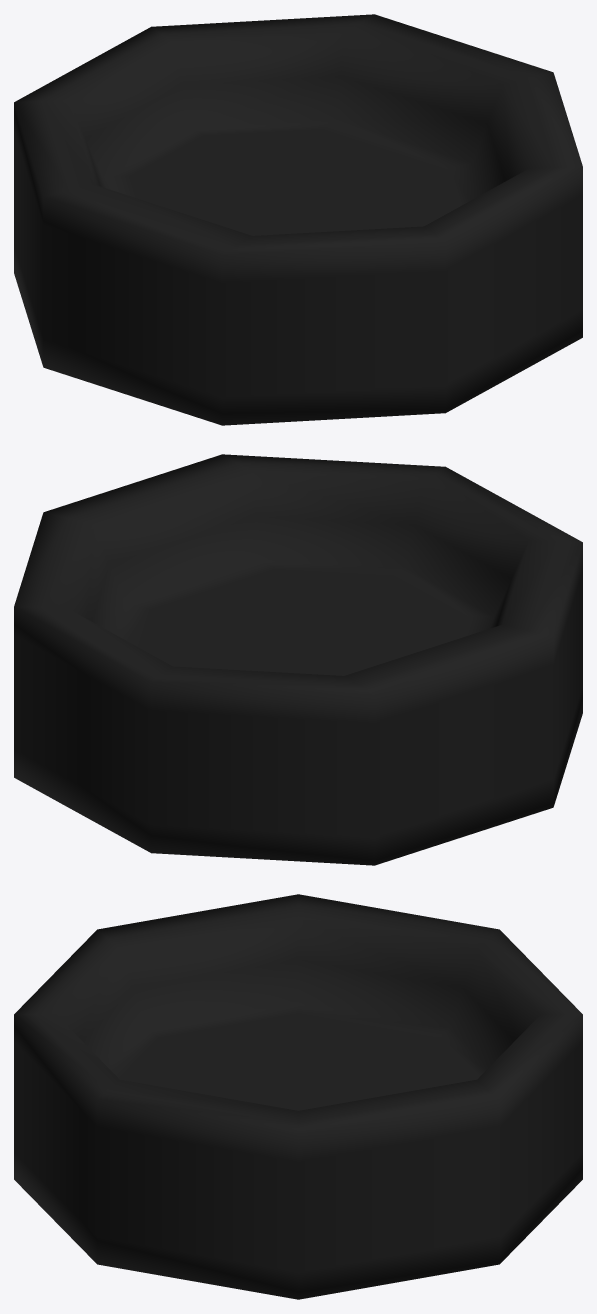
The model's file is SmallWheel.obj.
The picture shows the model from 3 angles, top to bottom: view 1: azimuth 30°, elevation 25°; view 2: azimuth 150°, elevation 25°; view 3: azimuth 270°, elevation 25°; orthographic projection. The views are drawn at different scales.
Visible parts, largest first — view 1: SmallWhRFront_Cube.000; view 2: SmallWhRFront_Cube.000; view 3: SmallWhRFront_Cube.000.
Part boxes in pixels (x1=…): SmallWhRFront_Cube.000: x1=14, y1=14, x2=582, y2=425; SmallWhRFront_Cube.000: x1=14, y1=454, x2=582, y2=865; SmallWhRFront_Cube.000: x1=14, y1=894, x2=582, y2=1299.
Bounding box in the file's own units: 0.0549 × 0.0176 × 0.0549.
Materials: 1 (1 with a texture image).
